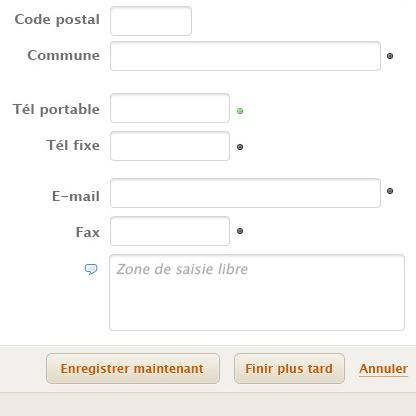button: (44, 352, 222, 385), (234, 352, 348, 387)
field: (107, 252, 406, 332), (103, 39, 383, 73), (105, 178, 384, 210), (104, 214, 233, 248), (105, 129, 232, 162), (107, 92, 232, 124), (104, 5, 194, 38)
field_with_label: (27, 37, 387, 75), (51, 175, 387, 212), (10, 89, 237, 126), (47, 126, 235, 164), (74, 209, 236, 251)
